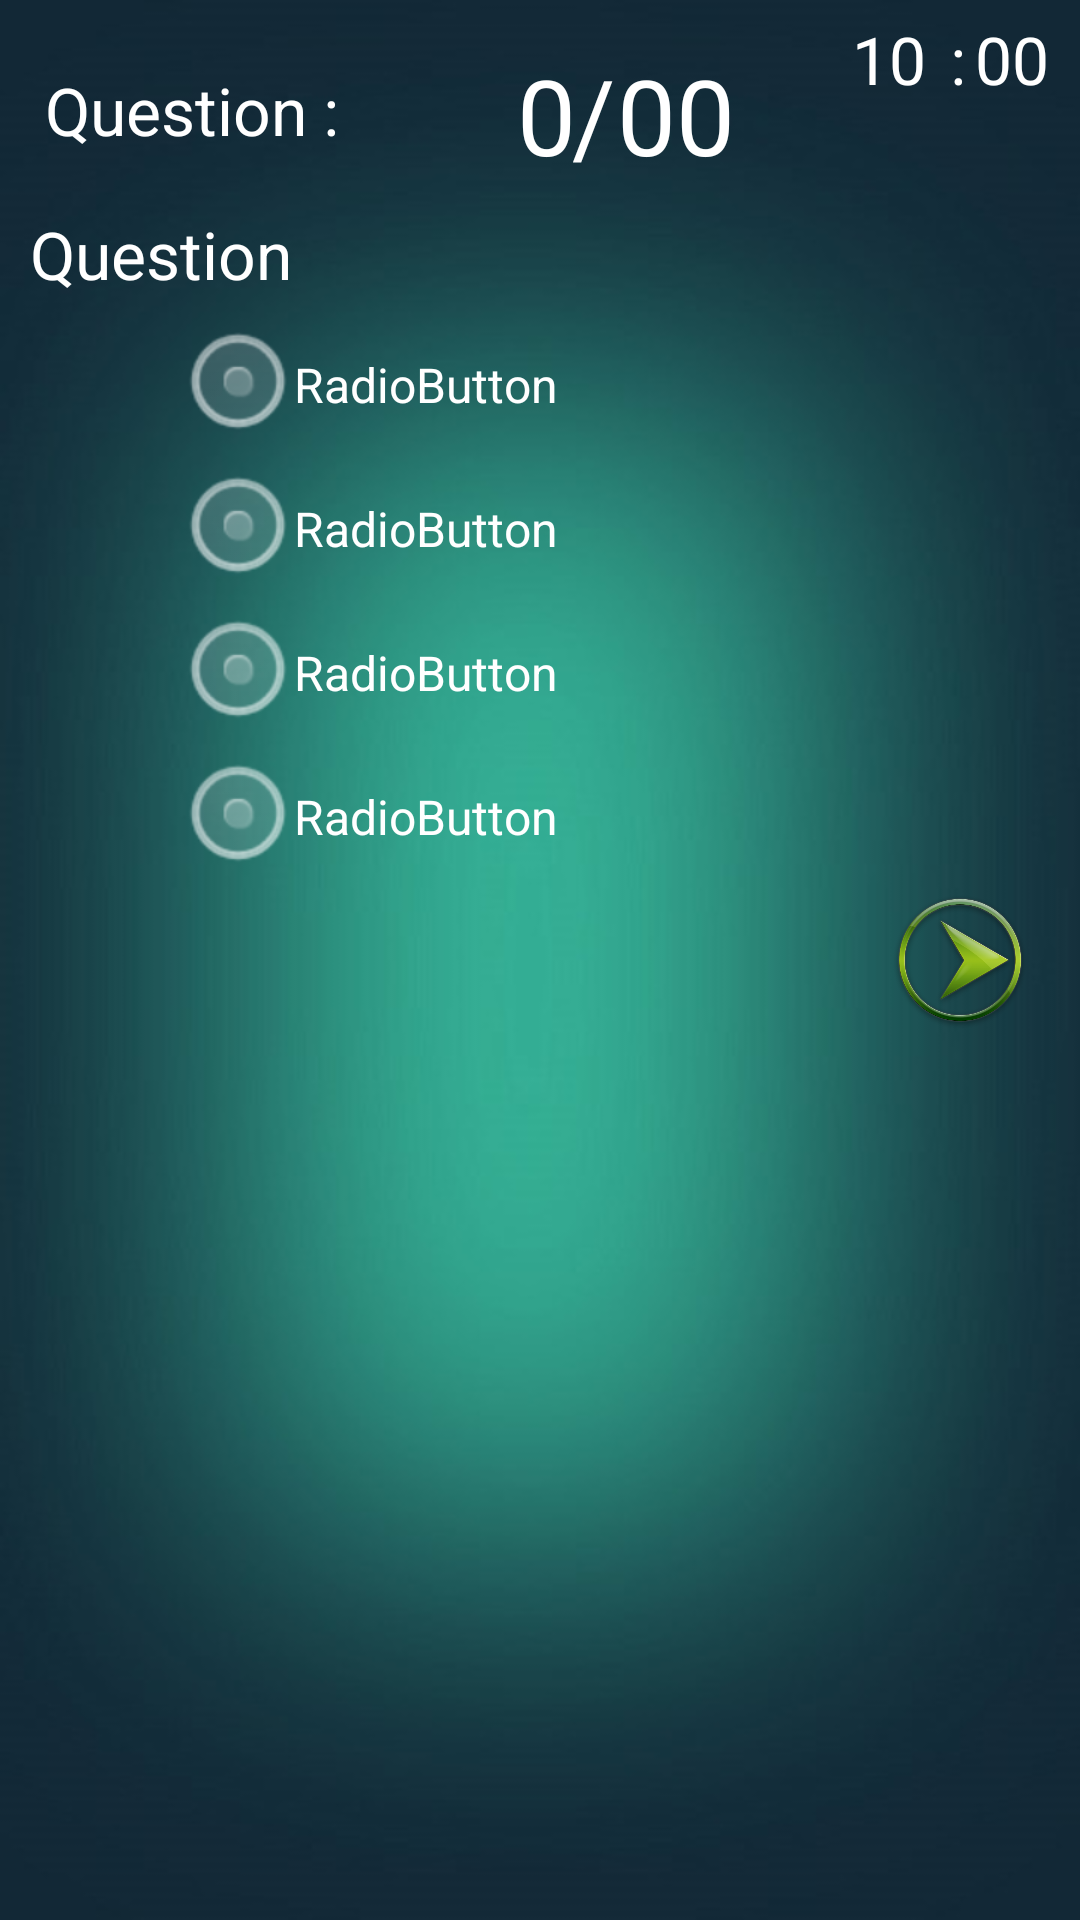

Point at icon controls on the screen. Image size 1080 x 1920, points as point (x, y).
nextbutton: point (954, 960)
